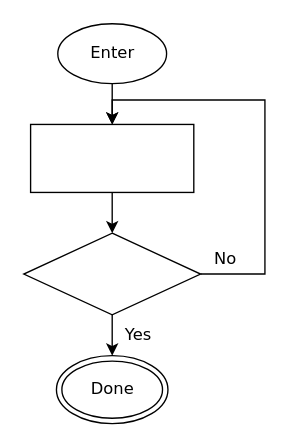
The diagram is 301 pixels wide and 447 high, and some of its shapes have lost their labels. The shapes that lost their labels are listed below. From the top down, each one's centre as x and y in pixels, then its label:
At [111,157]: "Try send".
At [111,273]: "Succeeded?".
